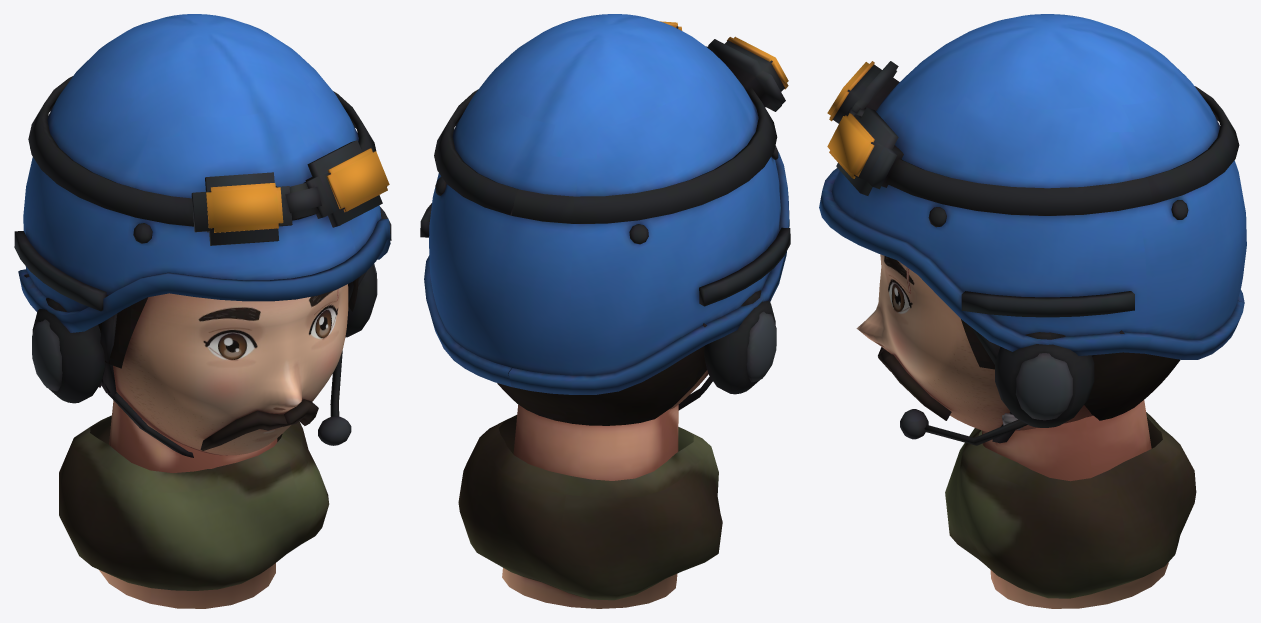
The model's file is cabeza-rifle-m.glb.
The picture shows the model from 3 angles, left to right: view 1: azimuth 30°, elevation 25°; view 2: azimuth 150°, elevation 25°; view 3: azimuth 270°, elevation 25°; orthographic projection.
Visible parts, largest first — view 1: h_Head; view 2: h_Head; view 3: h_Head.
Boxes of the visible parts, <box> form: h_Head: <box>14,14,391,608</box>; h_Head: <box>420,14,790,608</box>; h_Head: <box>819,14,1246,608</box>.
Size of the model in its own units: 0.2637 by 0.4203 by 0.2952.
Materials: 1 (1 with a texture image).
